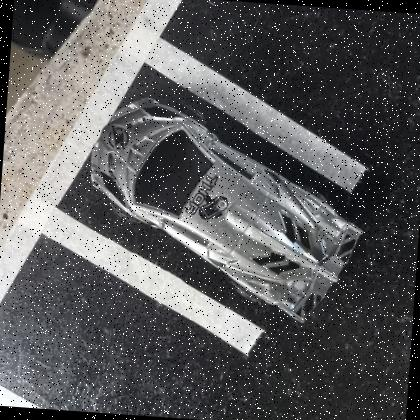Car: (89, 94, 362, 326)
